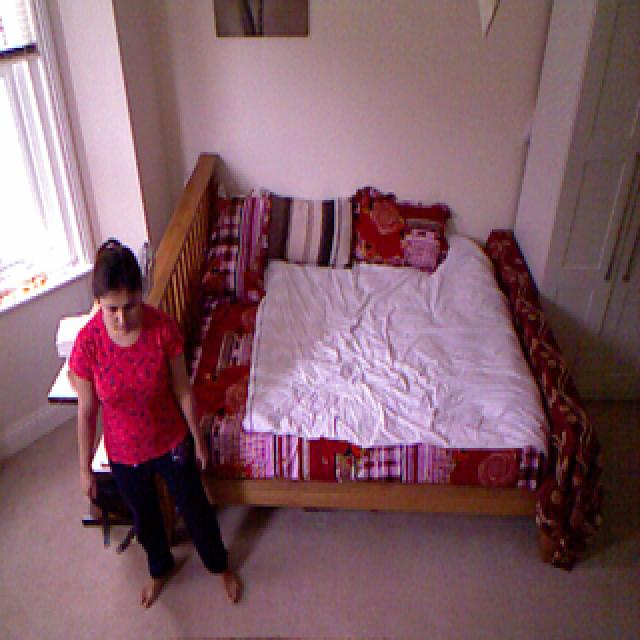standing: (70, 255, 231, 600)
